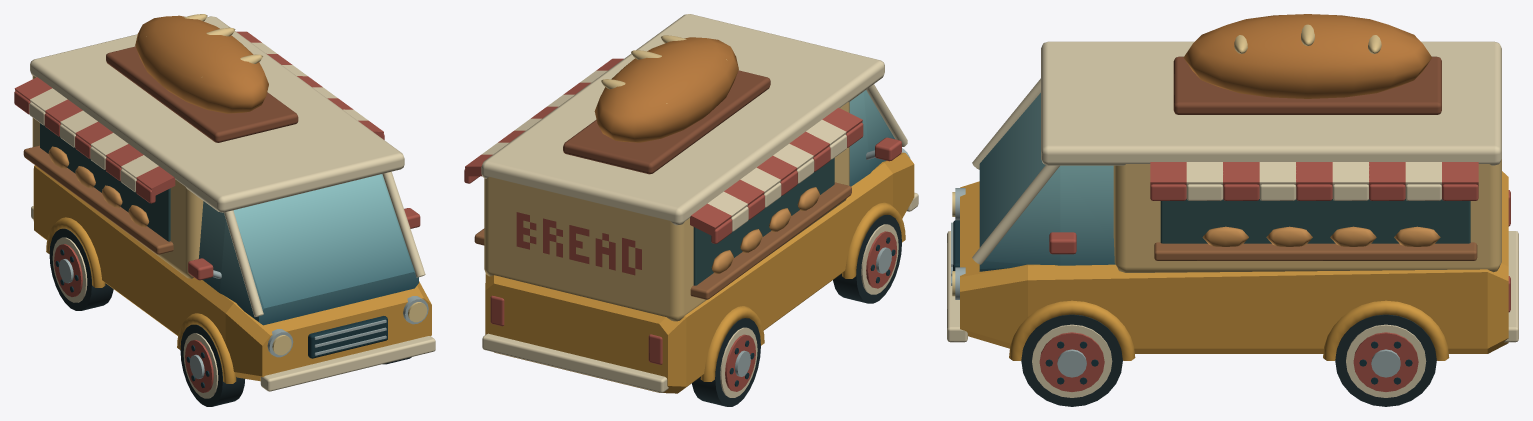
Rendered from bread-van.glb.
The picture shows the model from 3 angles, left to right: view 1: azimuth 30°, elevation 25°; view 2: azimuth 150°, elevation 25°; view 3: azimuth 270°, elevation 25°; orthographic projection. The views are drawn at different scales.
Parts seen in each view (by area): view 1: body, glazing, wheel-front-right, wheel-back-right; view 2: body, wheel-back-right, wheel-front-right, glazing; view 3: body, glazing, wheel-back-left, wheel-front-left.
Boxes of the visible parts, x1,y1,x2,y2 form: body: (14,14,435,391); glazing: (198,174,418,325); wheel-front-right: (180,324,244,406); wheel-back-right: (49,228,113,310); body: (464,14,918,393); wheel-back-right: (692,318,760,406); wheel-front-right: (833,215,901,303); glazing: (849,90,894,186); body: (947,14,1518,360); glazing: (979,93,1115,271); wheel-back-left: (1335,314,1436,406); wheel-front-left: (1021,314,1122,406).
Size of the model in its own units: 2.5 by 2.78 by 4.39.
